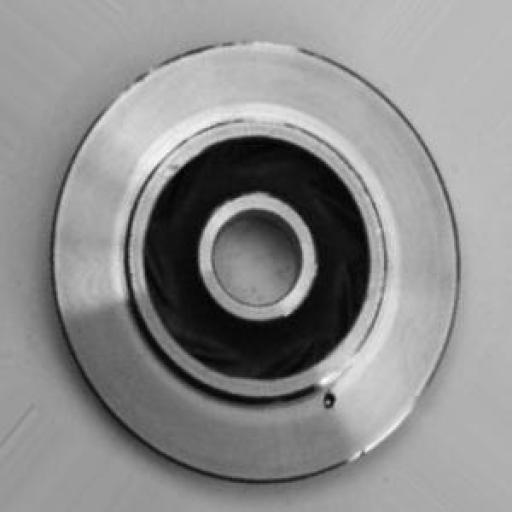defect: (279, 364, 375, 438)
